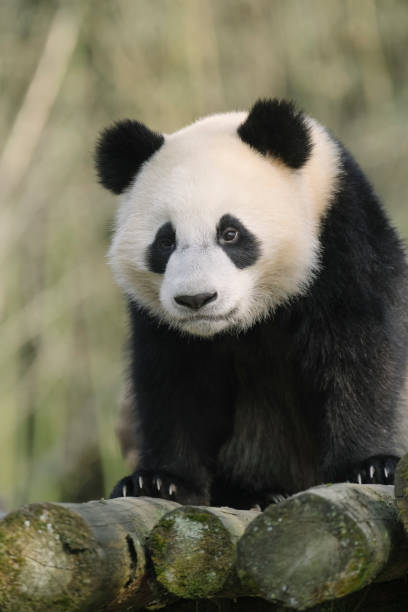panda: (81, 90, 362, 376)
